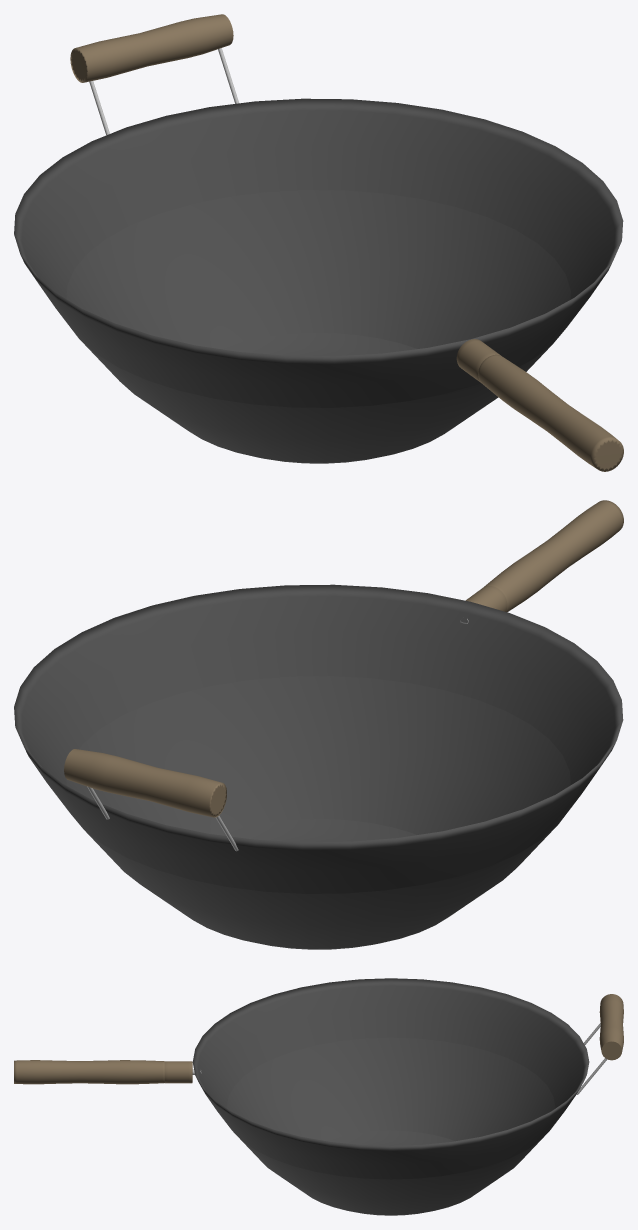
The model's file is wok_reduced.fbx.
3 renders of one model, top to bottom at view 1: azimuth 30°, elevation 25°; view 2: azimuth 150°, elevation 25°; view 3: azimuth 270°, elevation 25°, orthographic. The views are drawn at different scales.
Parts seen in each view (by area): view 1: polySurface5, polySurface12, polySurface13, polySurface16, polySurface7; view 2: polySurface5, polySurface12, polySurface13, polySurface16, polySurface7; view 3: polySurface5, polySurface12, polySurface13, polySurface7, polySurface16.
Boxes of the visible parts, x1,y1,x2,y2 form: polySurface5: [14, 98, 623, 407]; polySurface12: [66, 190, 570, 462]; polySurface13: [456, 339, 623, 471]; polySurface16: [70, 14, 233, 82]; polySurface7: [221, 333, 416, 463]; polySurface5: [14, 584, 623, 893]; polySurface12: [66, 676, 570, 948]; polySurface13: [466, 500, 623, 612]; polySurface16: [64, 749, 226, 817]; polySurface7: [220, 819, 416, 949]; polySurface5: [192, 978, 589, 1179]; polySurface12: [226, 1037, 555, 1215]; polySurface13: [14, 1060, 192, 1084]; polySurface7: [327, 1130, 454, 1215]; polySurface16: [599, 994, 623, 1060].
Size of the model in its own units: 34.94 by 16.1 by 53.73.
